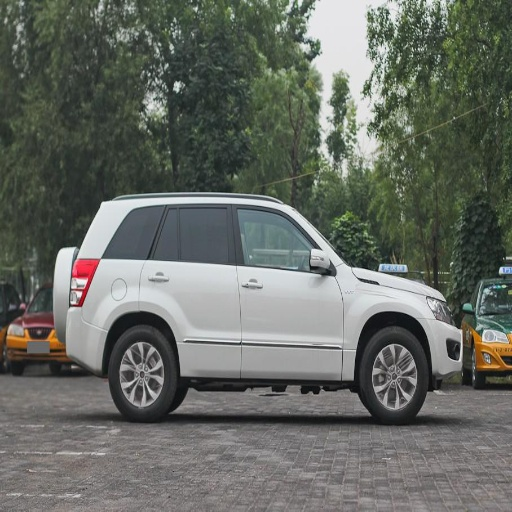back_right_door: (139, 202, 238, 372)
front_right_door: (236, 202, 344, 371)
